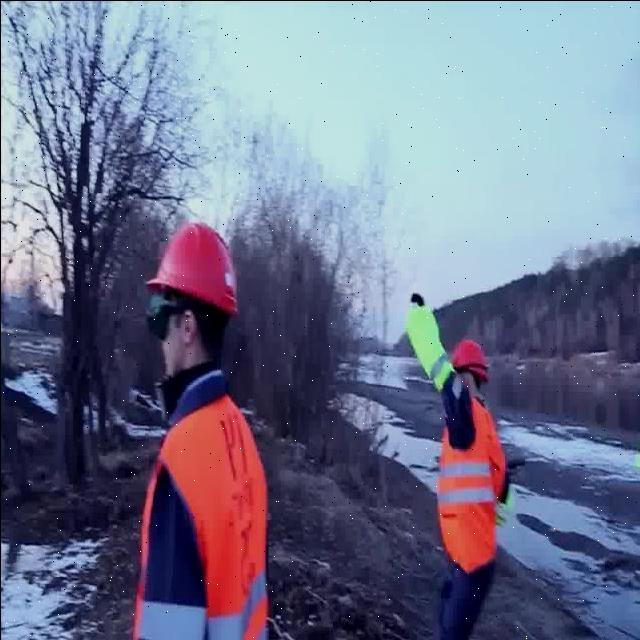Helmet: (142, 220, 239, 318), (448, 337, 488, 382)
Vest: (130, 384, 264, 636), (433, 410, 505, 572), (406, 300, 452, 398)
